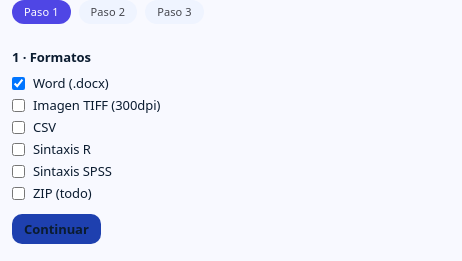
ExportWizard › lets the user toggle formats and advance to step 2
Step 1. Click the checkbox named "format zip" → point(18, 193), box [12,186,25,200]
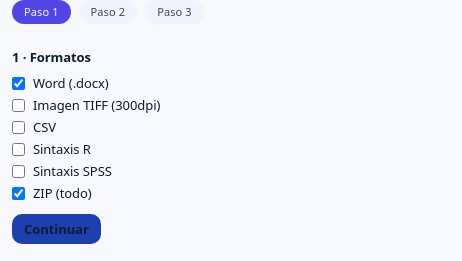
expect the checkbox named "format zip" is checked: met, box [12,186,25,200]
Step 2. Click the button "Continuar" → point(56, 229), box [12,214,101,244]
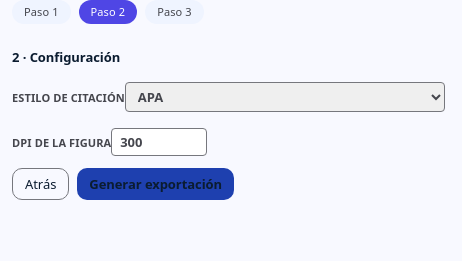
expect the heading "2 · Configuración" is shown: met, box [12,48,120,66]
